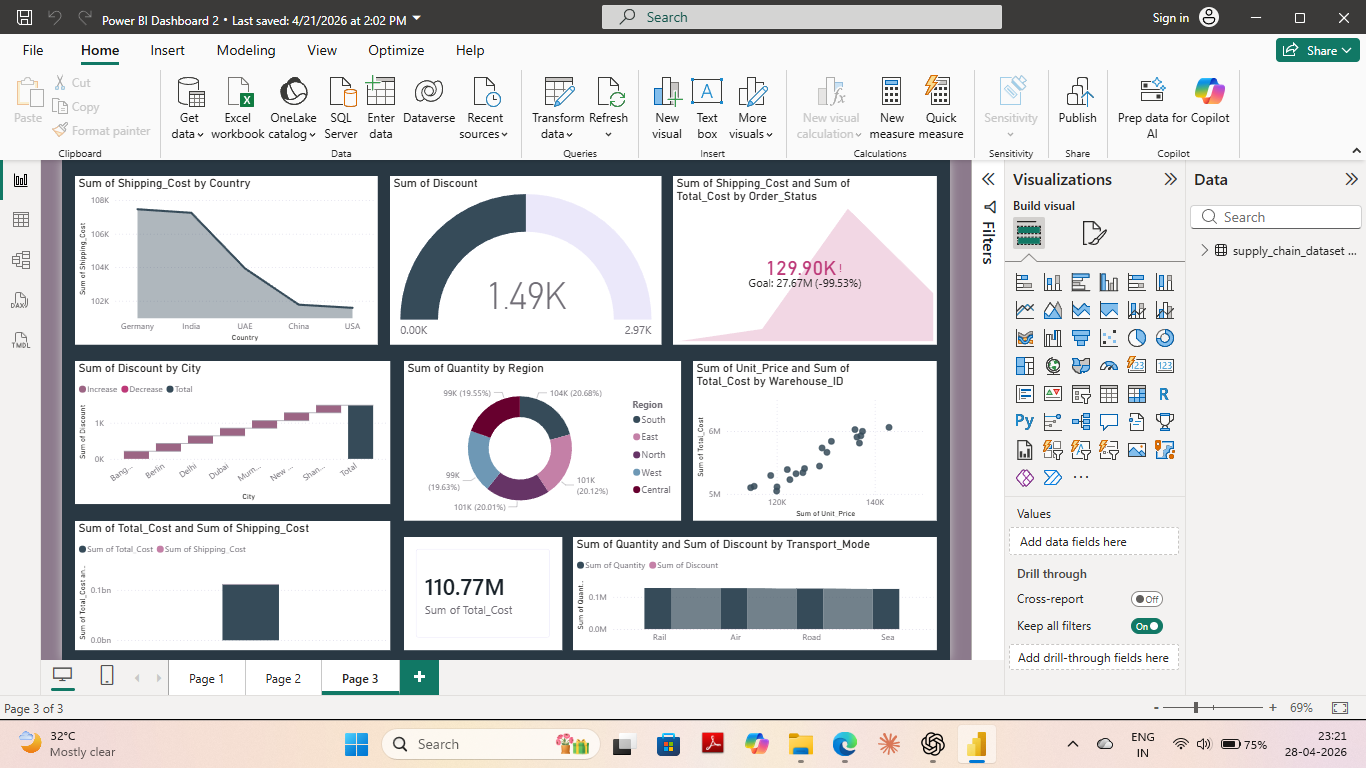

The page's visual inventory and layout, read from the dashboard file:
{"tool":"powerbi","page":{"name":"Page 3","canvas":[1280,720],"ordinal":2},"visuals":[{"type":"areaChart","fields":{"Category":["supply_chain_dataset BI  (1).Country"],"Y":["Sum(supply_chain_dataset BI  (1).Shipping_Cost)"]},"box":[18.6,22.9,435.7,242.9],"z":0},{"type":"columnChart","fields":{"Y":["Sum(supply_chain_dataset BI  (1).Total_Cost)","Sum(supply_chain_dataset BI  (1).Shipping_Cost)"]},"box":[18.7,519.8,453.6,185.8],"z":1000},{"type":"gauge","fields":{"Y":["Sum(supply_chain_dataset BI  (1).Discount)"]},"box":[472.9,22.9,391.4,242.9],"z":2000},{"type":"cardVisual","fields":{"Data":["Sum(supply_chain_dataset BI  (1).Total_Cost)"]},"box":[492.5,542.9,227.5,162.7],"z":3000},{"type":"donutChart","fields":{"Y":["Sum(supply_chain_dataset BI  (1).Quantity)"],"Category":["supply_chain_dataset BI  (1).Region"]},"box":[492.5,289.4,398.9,230.4],"z":4000},{"type":"kpi","fields":{"TrendLine":["supply_chain_dataset BI  (1).Order_Status"],"Indicator":["Sum(supply_chain_dataset BI  (1).Shipping_Cost)"],"Goal":["Sum(supply_chain_dataset BI  (1).Total_Cost)"]},"box":[879.8,23,380.2,243.4],"z":5000},{"type":"scatterChart","fields":{"Category":["supply_chain_dataset BI  (1).Warehouse_ID"],"X":["Sum(supply_chain_dataset BI  (1).Unit_Price)"],"Y":["Sum(supply_chain_dataset BI  (1).Total_Cost)"]},"box":[908.6,289.4,351.4,230.4],"z":6000},{"type":"waterfallChart","fields":{"Y":["Sum(supply_chain_dataset BI  (1).Discount)"],"Category":["supply_chain_dataset BI  (1).City","supply_chain_dataset BI  (1).Ship_Date.Variation.Date Hierarchy.Year","supply_chain_dataset BI  (1).Ship_Date.Variation.Date Hierarchy.Quarter","supply_chain_dataset BI  (1).Ship_Date.Variation.Date Hierarchy.Month","supply_chain_dataset BI  (1).Ship_Date.Variation.Date Hierarchy.Day"]},"box":[18.7,289.4,453.6,205.9],"z":7000},{"type":"ribbonChart","fields":{"Y":["Sum(supply_chain_dataset BI  (1).Quantity)","Sum(supply_chain_dataset BI  (1).Discount)"],"Category":["supply_chain_dataset BI  (1).Transport_Mode"]},"box":[735.8,542.9,524.2,162.7],"z":8000}]}

Visuals, with their boxes on the page's 1280x720 design canvas (x1, y1, x2, y2). These are canvas units, not pixel positions in the 1366x768 screenshot, which may show the page scaled, cropped or inside an application window:
areaChart - supply_chain_dataset BI  (1).Country x Sum(supply_chain_dataset BI  (1).Shipping_Cost): <box>19,23,454,266</box>
columnChart - Sum(supply_chain_dataset BI  (1).Total_Cost) x Sum(supply_chain_dataset BI  (1).Shipping_Cost): <box>19,520,472,706</box>
gauge - Sum(supply_chain_dataset BI  (1).Discount): <box>473,23,864,266</box>
cardVisual - Sum(supply_chain_dataset BI  (1).Total_Cost): <box>492,543,720,706</box>
donutChart - Sum(supply_chain_dataset BI  (1).Quantity) x supply_chain_dataset BI  (1).Region: <box>492,289,891,520</box>
kpi - supply_chain_dataset BI  (1).Order_Status x Sum(supply_chain_dataset BI  (1).Shipping_Cost): <box>880,23,1260,266</box>
scatterChart - supply_chain_dataset BI  (1).Warehouse_ID x Sum(supply_chain_dataset BI  (1).Unit_Price): <box>909,289,1260,520</box>
waterfallChart - Sum(supply_chain_dataset BI  (1).Discount) x supply_chain_dataset BI  (1).City: <box>19,289,472,495</box>
ribbonChart - Sum(supply_chain_dataset BI  (1).Quantity) x Sum(supply_chain_dataset BI  (1).Discount): <box>736,543,1260,706</box>
